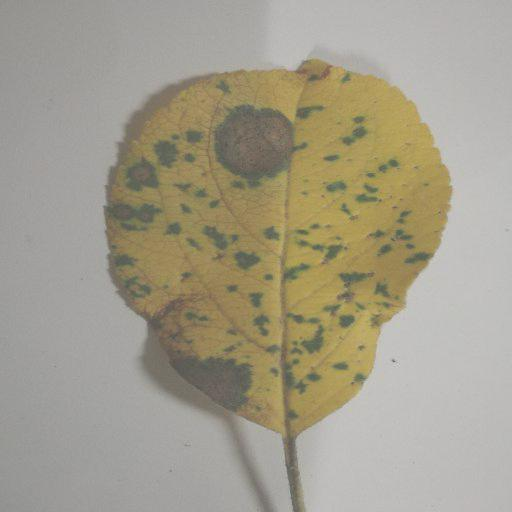Brown_Spot: (212, 105, 296, 174), (175, 355, 243, 406), (131, 292, 185, 338), (112, 202, 162, 224), (123, 162, 153, 184)
